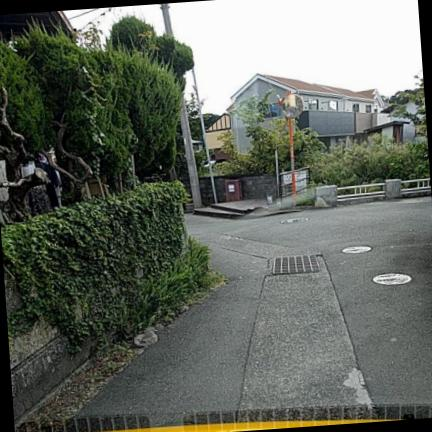Road: (81, 198, 431, 417)
